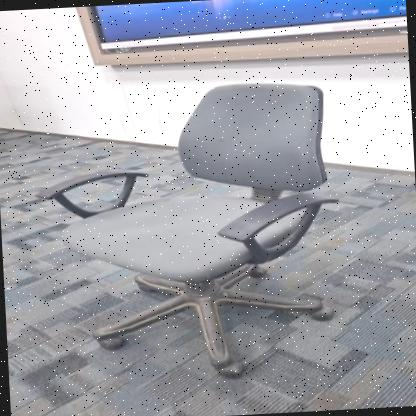chair: (26, 69, 352, 390)
